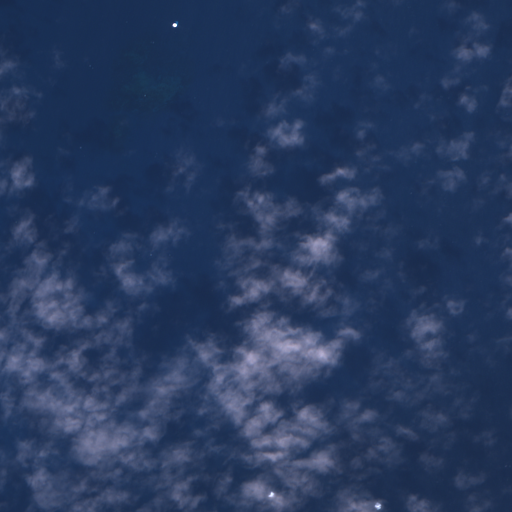Iceberg: (375, 502, 381, 509), (172, 21, 177, 27), (268, 491, 273, 496)
